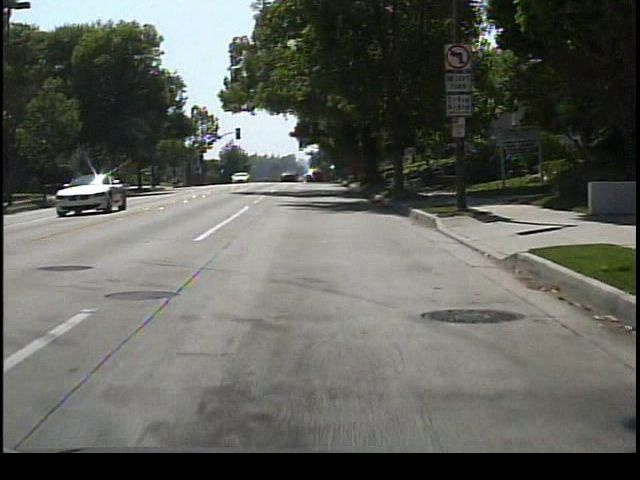person: (418, 153, 440, 190)
